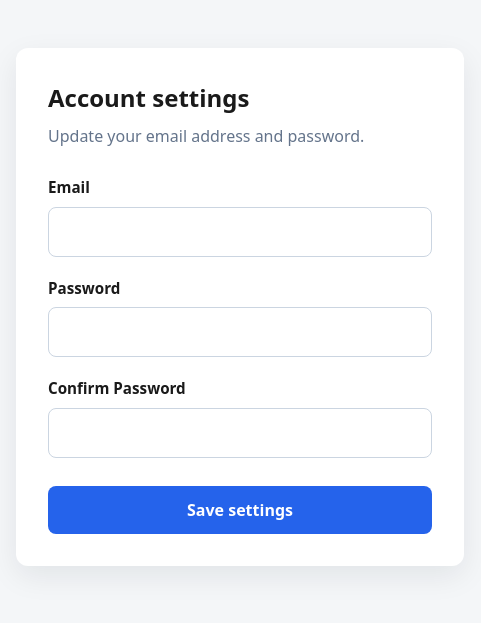
Test: SettingsForm › shows "Settings saved!" after a valid submission
Type "user@example.com" into the field labelled "Email".
click(240, 232); type("user@example.com")  # box [48,207,432,257]
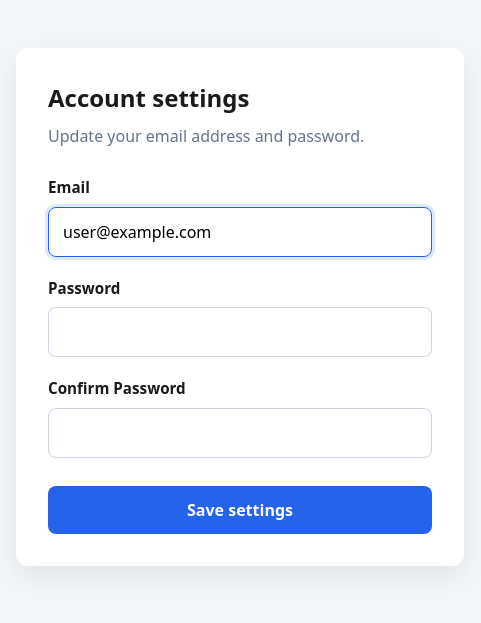
Type "Password1" into the password field labelled "Password".
click(240, 332); type("Password1")  # box [48,307,432,357]
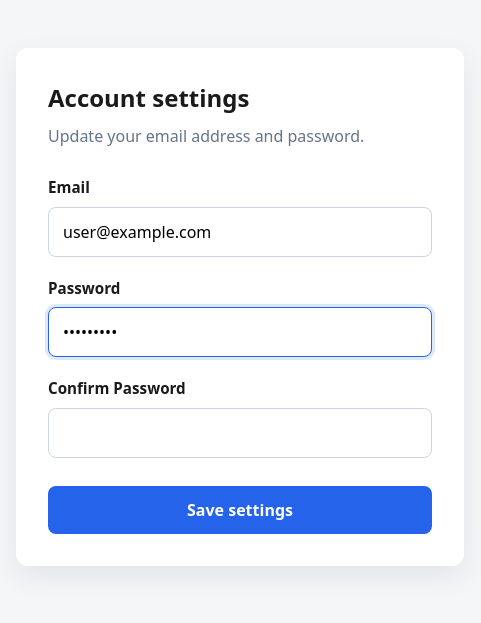
Type "Password1" into the password field labelled "Confirm Password".
click(240, 433); type("Password1")  # box [48,408,432,458]
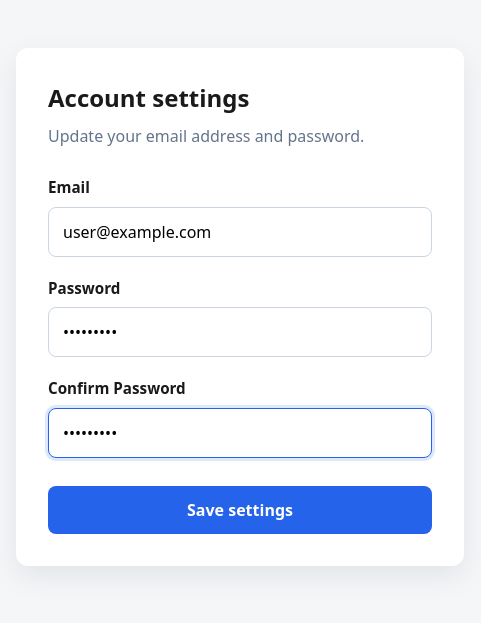
Click the button "Save settings".
click(240, 510)  # box [48,486,432,534]
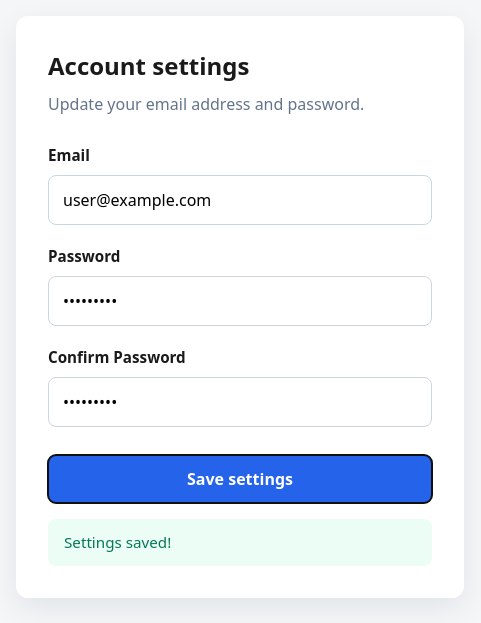
Check: the text "Settings saved!" is shown, box [48,519,432,566]
